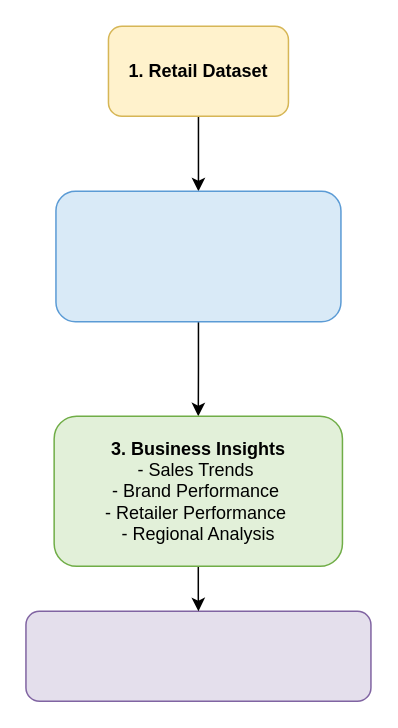
Some shapes in this 398 by 728 pixel diagram are drawn without their labels. The shapes that lost their labels are listed below. From the top down, each one's centre as x and y in pixels, then its label:
At [197,256]: "2. Data Analysis - Pivot Tables - Pivot Charts - KPI Calculations".
At [197,655]: "4. Interactive Dashboard".
